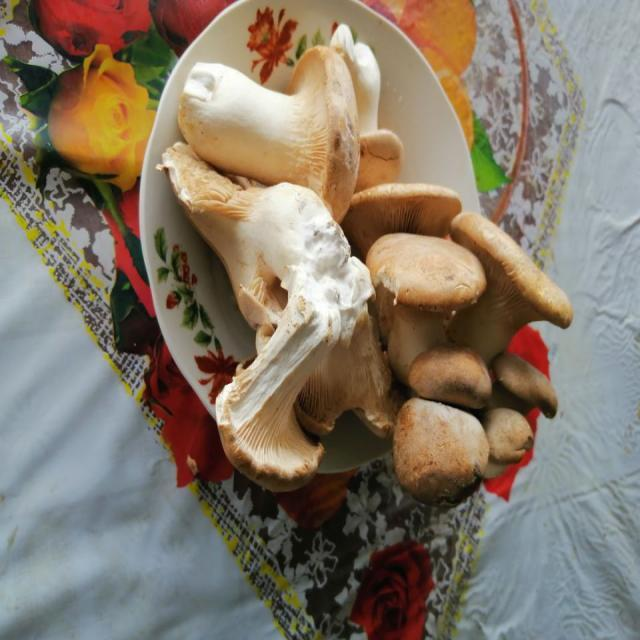Pleurotus cystidiosus: (164, 145, 392, 479), (342, 182, 573, 497), (177, 32, 358, 219)
